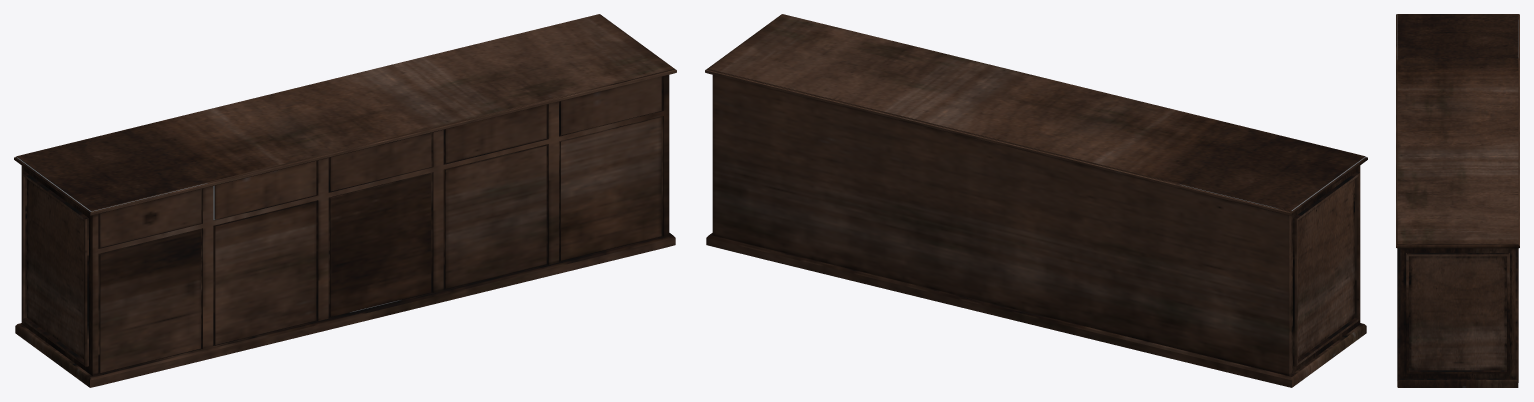
File: wooden buffet.fbx
3 views of the same model, side by side, from view 1: azimuth 30°, elevation 25°; view 2: azimuth 150°, elevation 25°; view 3: azimuth 270°, elevation 25° (orthographic). The views are drawn at different scales.
Parts seen in each view (by area): view 1: Cube; view 2: Cube; view 3: Cube.
Boxes of the visible parts, bbox=[...] form: Cube: bbox=[14, 14, 676, 387]; Cube: bbox=[705, 14, 1367, 387]; Cube: bbox=[1396, 14, 1519, 387].
Bounding box in the file's own units: 305 × 87.83 × 68.77.
